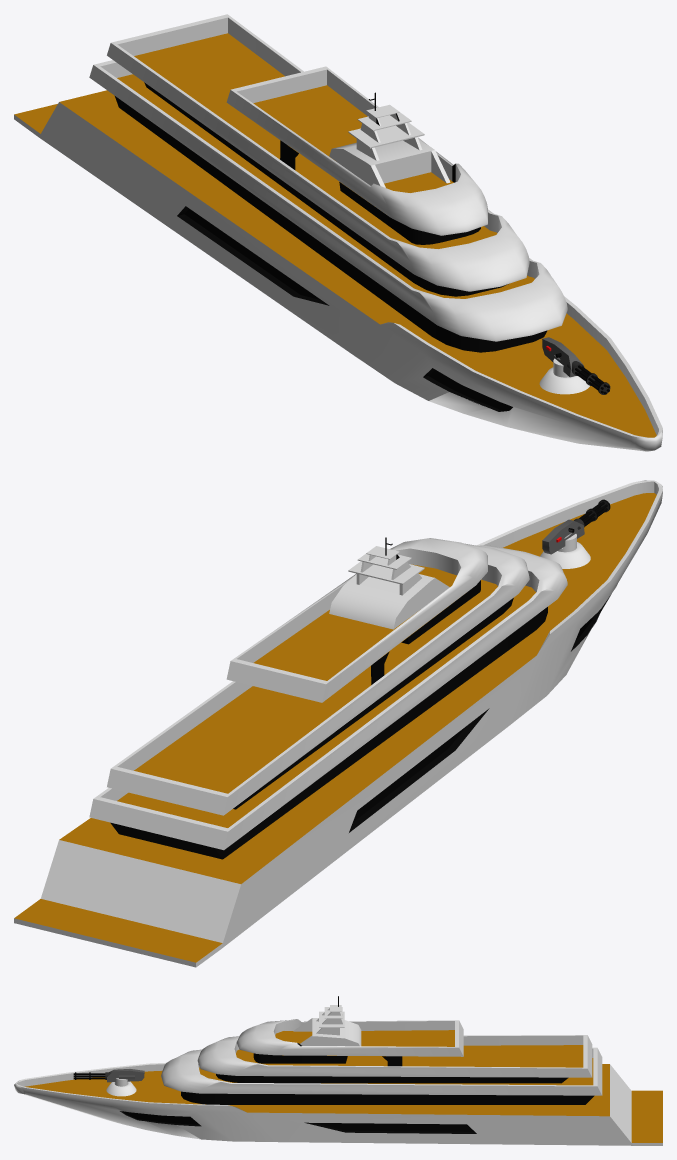
The model's file is ship.fbx.
The picture shows the model from 3 angles, top to bottom: view 1: azimuth 30°, elevation 25°; view 2: azimuth 150°, elevation 25°; view 3: azimuth 270°, elevation 25°; orthographic projection. The views are drawn at different scales.
Visible parts, largest first — view 1: Plane; view 2: Plane; view 3: Plane.
Part boxes in pixels (x1=…): Plane: x1=14, y1=14, x2=662, y2=451; Plane: x1=14, y1=480, x2=662, y2=967; Plane: x1=14, y1=996, x2=662, y2=1145.
Bounding box in the file's own units: 350 × 381 × 1837.
